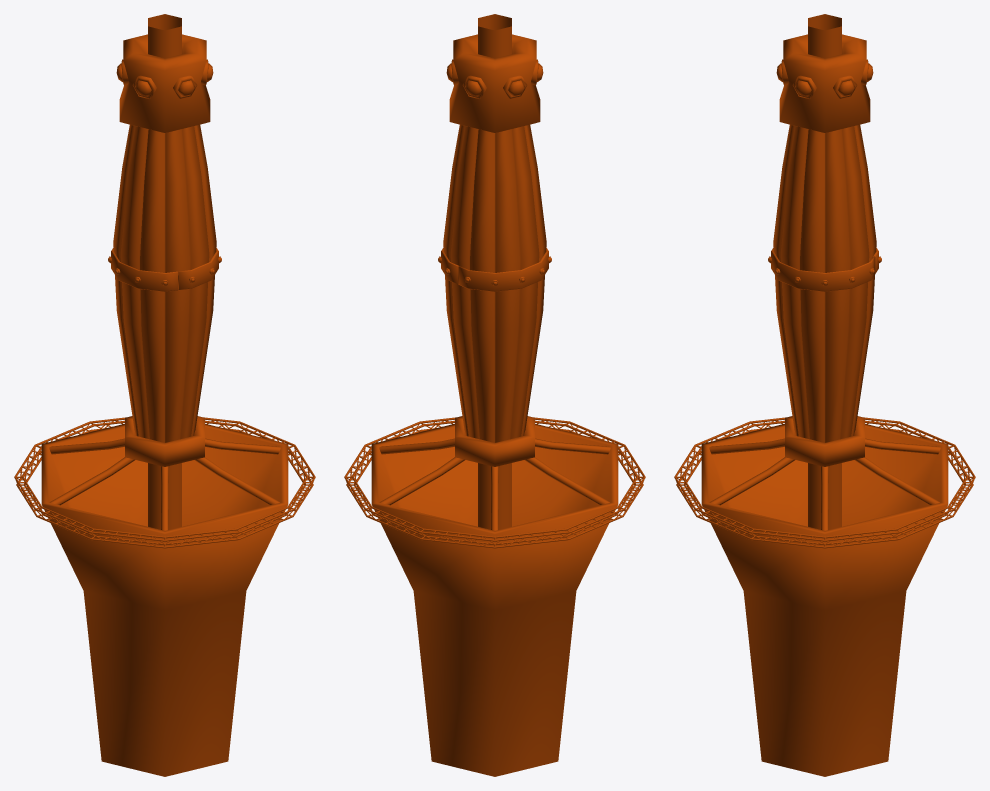
Rendered from MOD_Carousel_Base.FBX.
3 views of the same model, side by side, from view 1: azimuth 30°, elevation 25°; view 2: azimuth 150°, elevation 25°; view 3: azimuth 270°, elevation 25° (orthographic).
Visible parts, largest first — view 1: MOD_Carousel_Base; view 2: MOD_Carousel_Base; view 3: MOD_Carousel_Base.
Part boxes in pixels (box(x1,y1,x2,y2)): MOD_Carousel_Base: box(14, 14, 315, 776); MOD_Carousel_Base: box(344, 14, 645, 776); MOD_Carousel_Base: box(674, 14, 975, 776).
Size of the model in its own units: 14.11 by 37.34 by 14.11.
